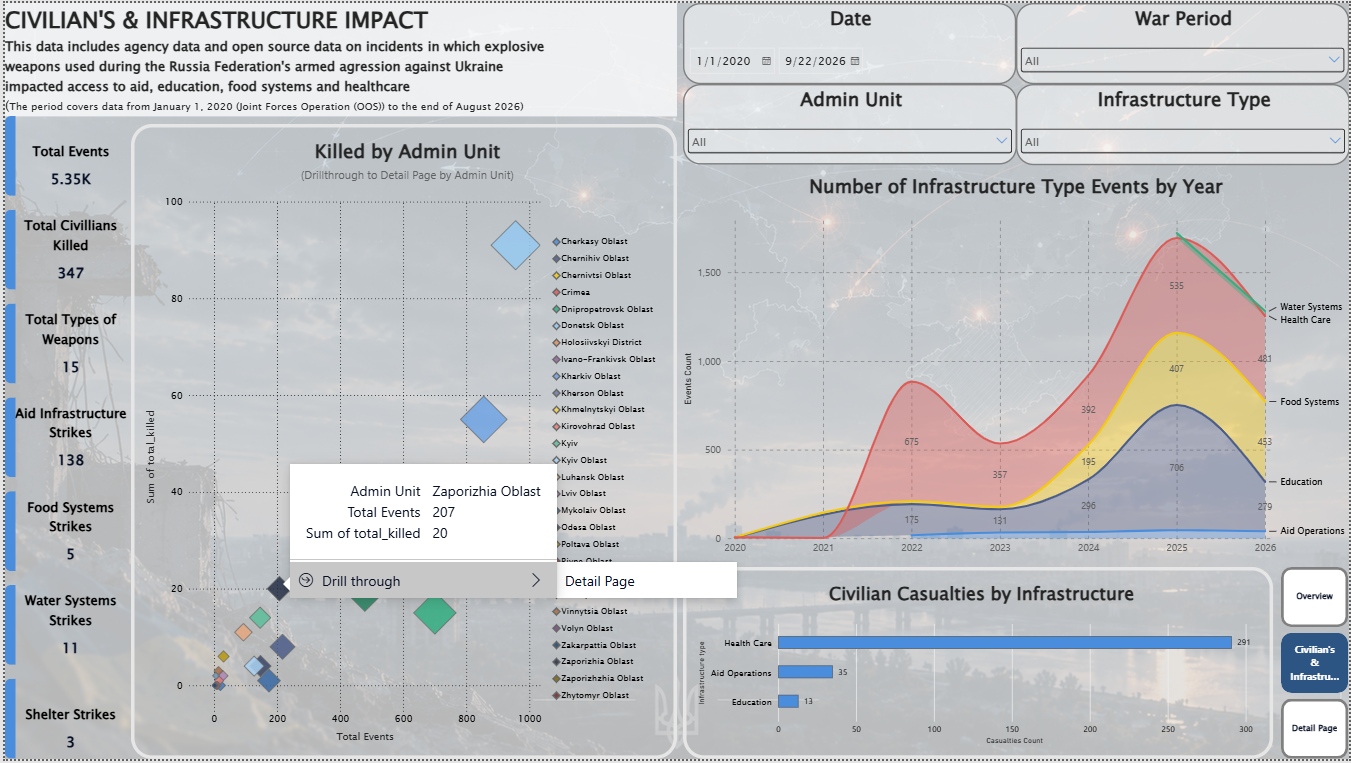

This screenshot's page, from the dashboard's own definition file:
{"tool":"powerbi","page":{"name":"Civilian's & Infrastructure Impact","canvas":[1920,1080],"ordinal":1},"visuals":[{"type":"textbox","box":[0,0,960,161.7],"z":0},{"type":"cardVisual","fields":{"Data":["Count(fact_events.SiND_event_id)","Sum(fact_events.total_killed)","Count(fact_events.launch_type)","Sum(fact_events.aid_infrastucture_effect)","Count(fact_events.food_systems_effect)","Count(fact_events.water_systems_effect)","Sum(fact_events.civillian_shelter_effect)"]},"box":[0,161.7,188.3,918.3],"z":1000},{"type":"slicer","title":"Date","fields":{"Values":["dim_calendar.Date"]},"box":[968.6,0,475.7,115.7],"z":2000},{"type":"slicer","title":"Admin Unit","fields":{"Values":["dim_regions.admin_unit"]},"box":[968.3,115,476.7,115],"z":3000},{"type":"slicer","title":"War Period","fields":{"Values":["fact_events.war_period"]},"box":[1444.3,0,475.7,115.7],"z":4000},{"type":"slicer","title":"Infrastructure Type","fields":{"Values":["fact_events.sector_affected"]},"box":[1444.3,115.7,477.1,115.7],"z":5000},{"type":"scatterChart","title":"Killed by Admin Unit","fields":{"Category":["fact_events.admin_unit"],"X":["CountNonNull(fact_events.SiND_event_id)"],"Size":["CountNonNull(fact_events.SiND_event_id)"],"Y":["Sum(fact_events.total_killed)"],"Series":["fact_events.admin_unit"]},"box":[180,173.3,780,906.7],"z":6000},{"type":"stackedAreaChart","title":"Number of Infrastructure Type Events by Year ","fields":{"Y":["CountNonNull(fact_events.SiND_event_id)"],"Category":["dim_calendar.Year"],"Series":["fact_events.sector_affected"]},"box":[968.6,242.9,951.4,550],"z":8000},{"type":"pageNavigator","box":[1823.3,805,96.7,275],"z":9000},{"type":"barChart","title":"Civilian Casualties by Infrastructure","fields":{"Category":["fact_events.sector_affected"],"Y":["Sum(fact_events.total_killed)"]},"box":[968.8,805.3,842.9,274.3],"z":9001}]}

Visuals, with their boxes in screenshot pixels (x1, y1, x2, y2), scaled from the page's 1920x1080 canvas onto the 1351x763 screenshot:
textbox: x1=0 y1=0 x2=676 y2=114
cardVisual - Count(fact_events.SiND_event_id) x Sum(fact_events.total_killed): x1=0 y1=114 x2=132 y2=762
"Date" slicer: x1=682 y1=0 x2=1016 y2=82
"Admin Unit" slicer: x1=681 y1=81 x2=1017 y2=162
"War Period" slicer: x1=1016 y1=0 x2=1350 y2=82
"Infrastructure Type" slicer: x1=1016 y1=82 x2=1350 y2=163
"Killed by Admin Unit" scatterChart: x1=127 y1=122 x2=676 y2=762
"Number of Infrastructure Type Events by Year " stackedAreaChart: x1=682 y1=172 x2=1350 y2=560
pageNavigator: x1=1283 y1=569 x2=1350 y2=762
"Civilian Casualties by Infrastructure" barChart: x1=682 y1=569 x2=1275 y2=762
